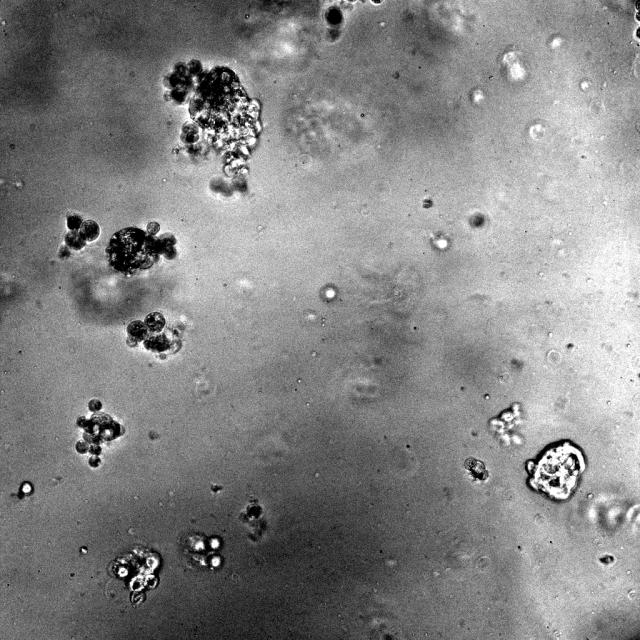organoid: (161, 58, 264, 199), (106, 220, 179, 280), (525, 440, 586, 501), (76, 398, 123, 468), (110, 546, 161, 606), (126, 311, 184, 360), (58, 211, 99, 258), (181, 531, 224, 571), (488, 403, 523, 446), (324, 5, 343, 41), (464, 458, 489, 483), (16, 481, 33, 498), (246, 503, 262, 519), (469, 212, 486, 227), (635, 0, 640, 39), (599, 554, 615, 565), (423, 197, 432, 208), (211, 485, 223, 493), (370, 0, 382, 4), (358, 0, 366, 2), (349, 0, 356, 2)
